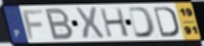B: (44, 7, 75, 41)
D: (127, 6, 157, 39), (152, 6, 180, 38)
F: (21, 8, 45, 40)
H: (98, 7, 131, 39)
X: (74, 6, 107, 41)
